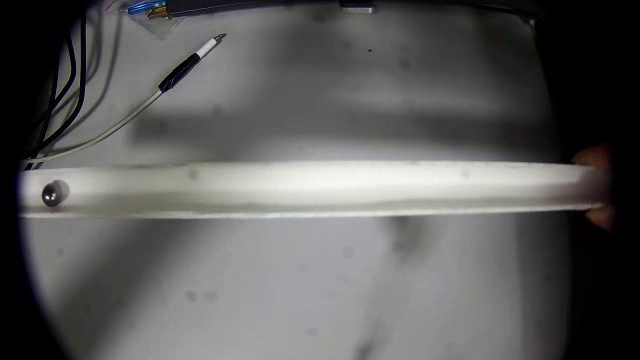gangzhu: (40, 179, 69, 207)
